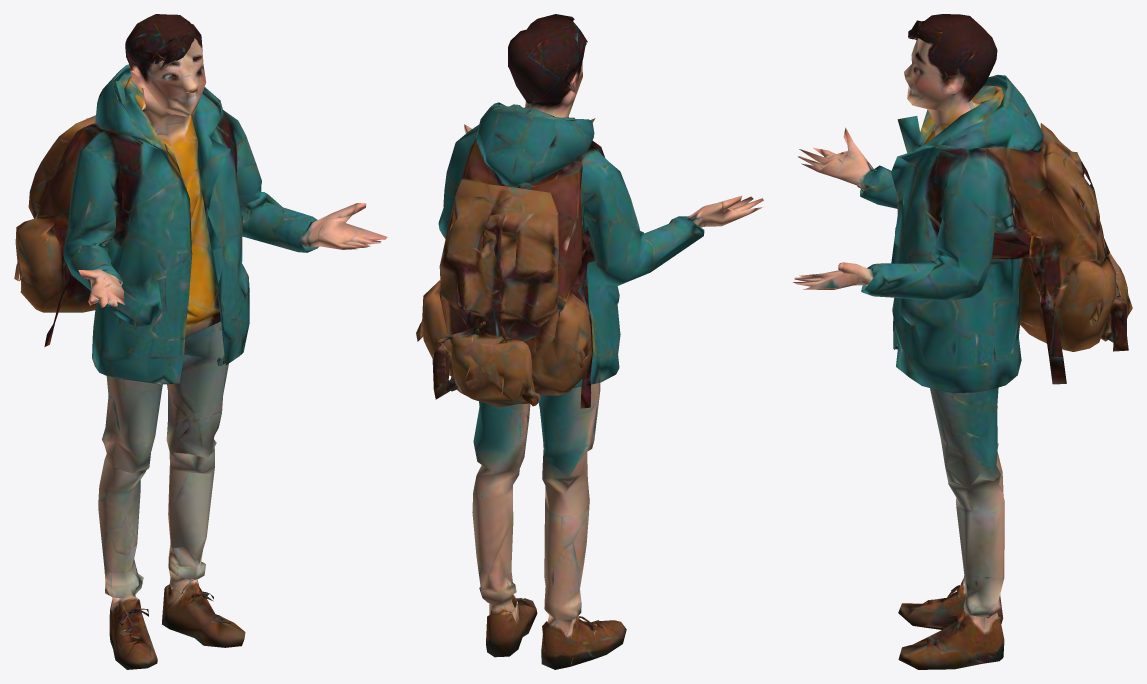
File: pax-sightseer.glb
The picture shows the model from 3 angles, left to right: view 1: azimuth 30°, elevation 25°; view 2: azimuth 150°, elevation 25°; view 3: azimuth 270°, elevation 25°; orthographic projection.
Size of the model in its own units: 0.9255 by 1.9 by 0.9351.
1 material, 1 textured.
